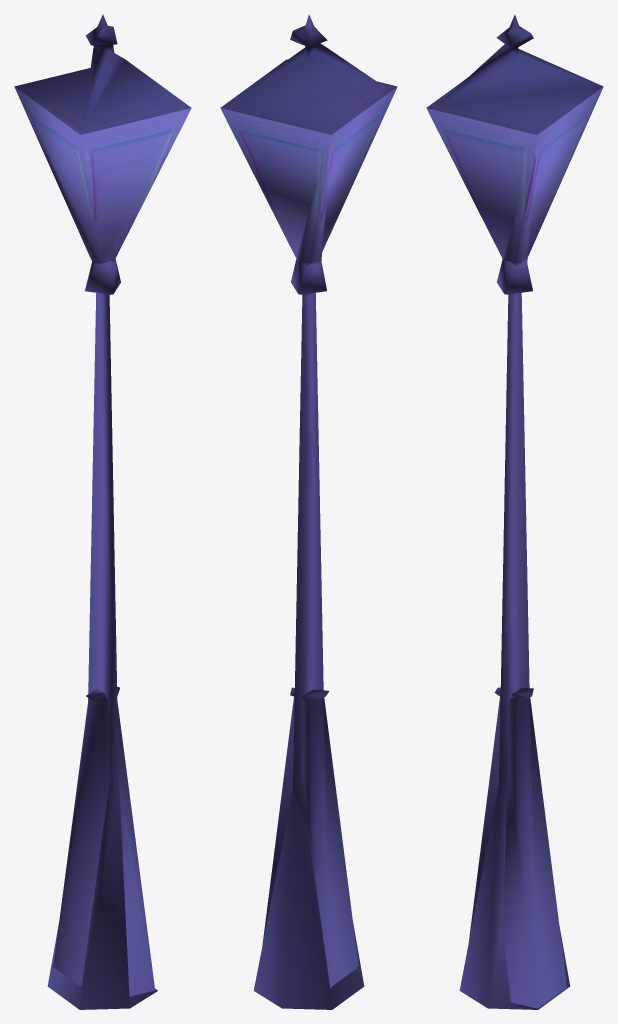
The model's file is model.progressive.glb.
The picture shows the model from 3 angles, left to right: view 1: azimuth 30°, elevation 25°; view 2: azimuth 150°, elevation 25°; view 3: azimuth 330°, elevation 25°; orthographic projection.
Visible parts, largest first — view 1: texture_pbr_20250901; view 2: texture_pbr_20250901; view 3: texture_pbr_20250901.
Boxes of the visible parts, x1=… form: texture_pbr_20250901: x1=14, y1=14, x2=191, y2=1009; texture_pbr_20250901: x1=220, y1=14, x2=397, y2=1009; texture_pbr_20250901: x1=426, y1=14, x2=603, y2=1009.
Size of the model in its own units: 0.2265 by 1.9 by 0.2343.
1 material, 1 textured.
